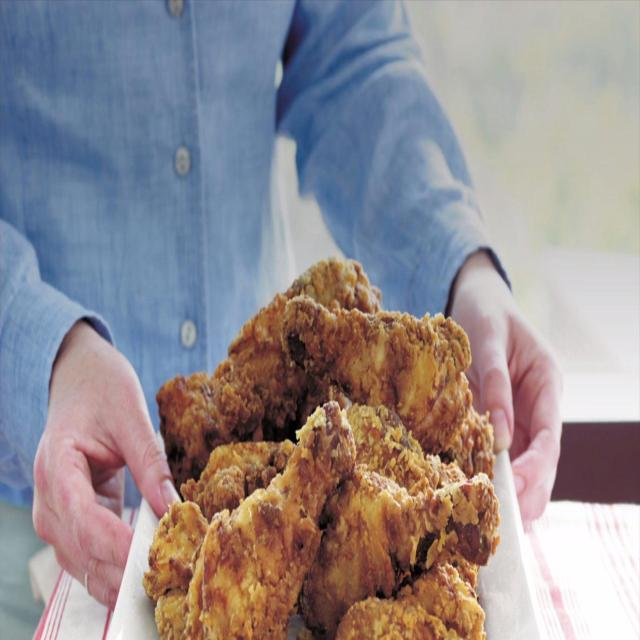Frango: (139, 259, 499, 640)
